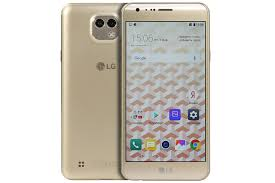lg: (117, 1, 212, 183)
